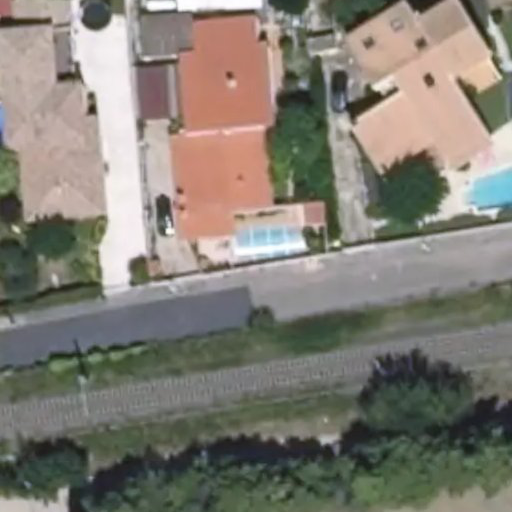pool: (221, 235, 290, 249)
